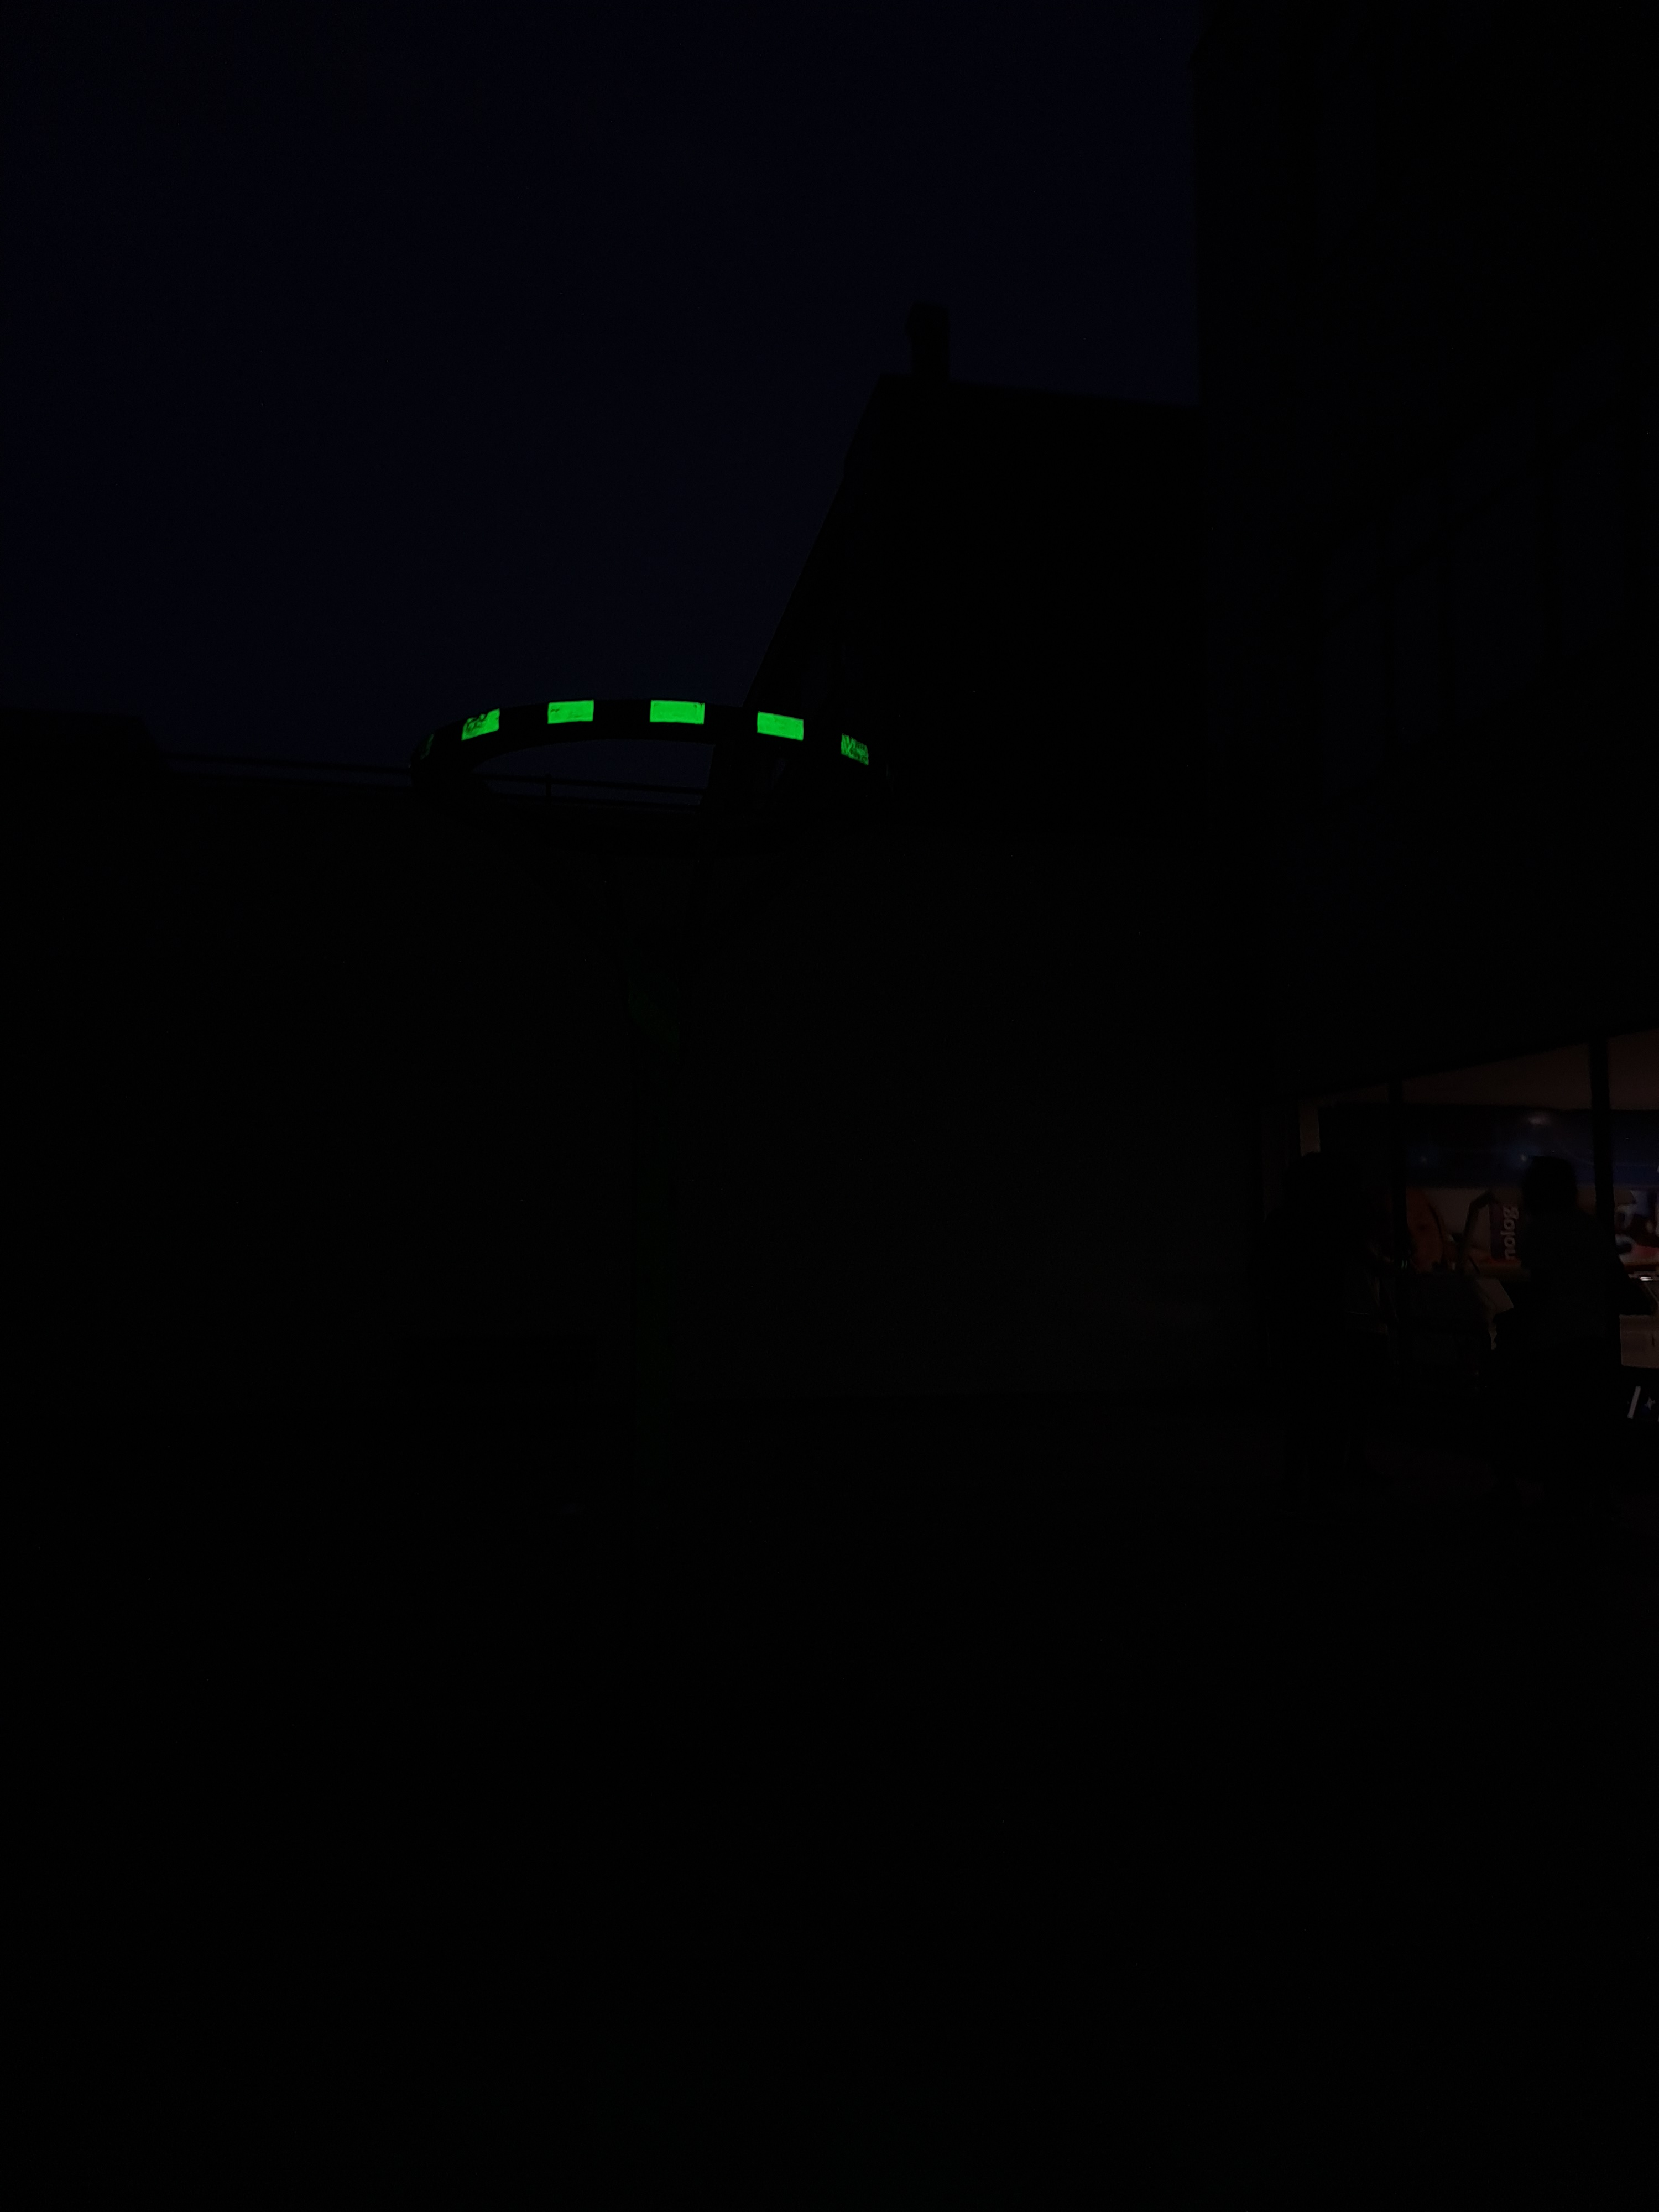hoop: (467, 697, 870, 765)
